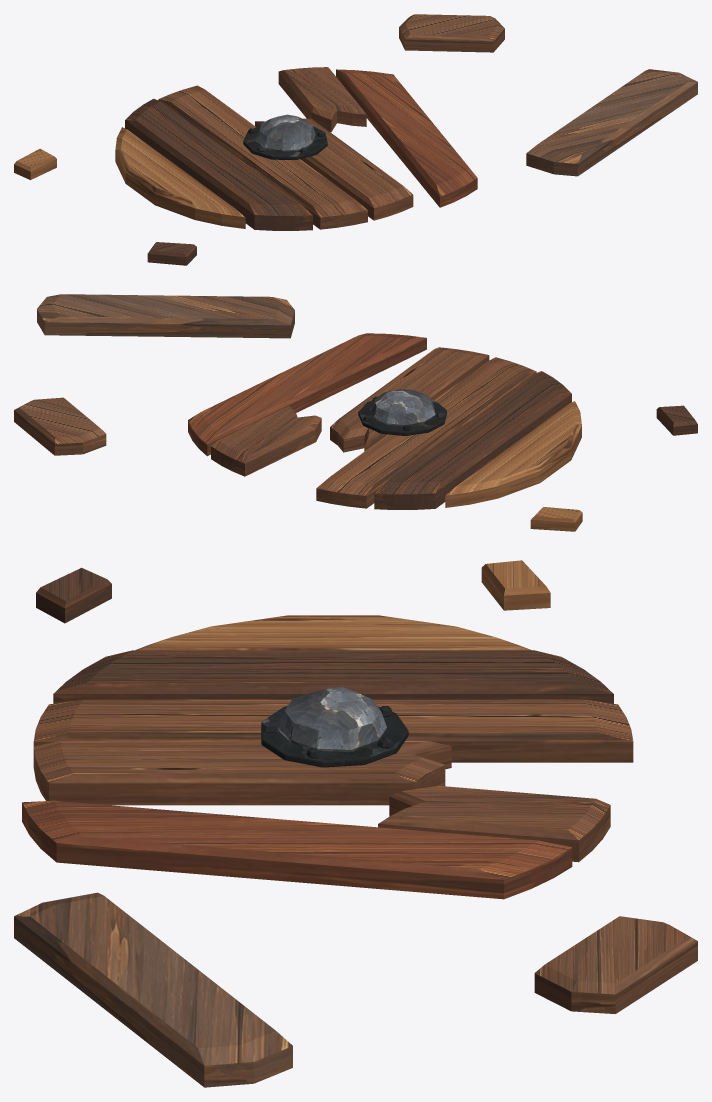
Rendered from junk_shield_wood.glb.
3 views of the same model, one above another, from view 1: azimuth 30°, elevation 25°; view 2: azimuth 150°, elevation 25°; view 3: azimuth 270°, elevation 25° (orthographic). The views are drawn at different scales.
Visible parts, largest first — view 1: model; view 2: model; view 3: model.
Boxes of the visible parts, x1=… form: model: x1=14, y1=14, x2=697, y2=265; model: x1=14, y1=294, x2=697, y2=531; model: x1=14, y1=560, x2=697, y2=1087.
Size of the model in its own units: 1.2 by 0.0766 by 0.6808.
Materials: 10 (10 with a texture image).
